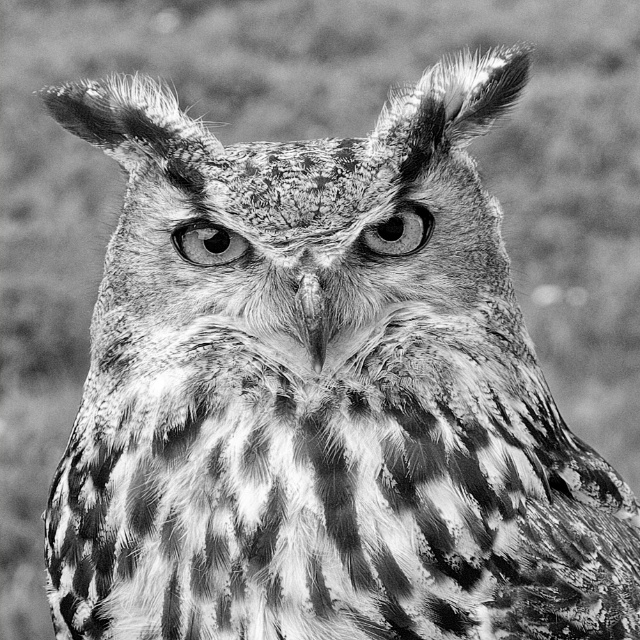Owl: (40, 43, 640, 640)
